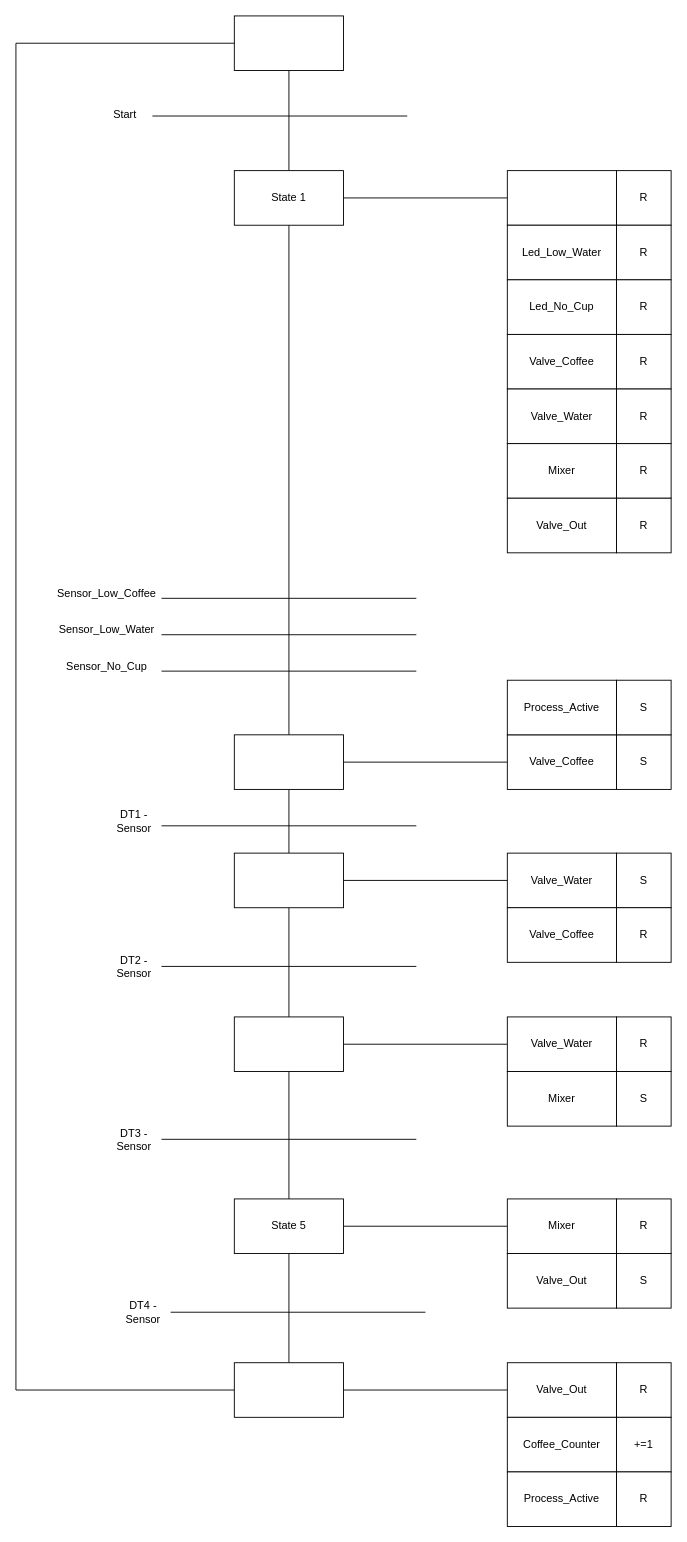
The diagram is 687 pixels wide and 1542 high, and some of its shapes have lost their labels. The box of each missing label's shape, as (x1, y1, x2, y2) in pixels:
Led_Low_Coffee: (506, 170, 617, 225)
State 0: (233, 15, 344, 71)
State 2: (233, 734, 344, 789)
State 3: (233, 852, 344, 908)
State 4: (233, 1016, 344, 1072)
State 6: (233, 1362, 344, 1417)
